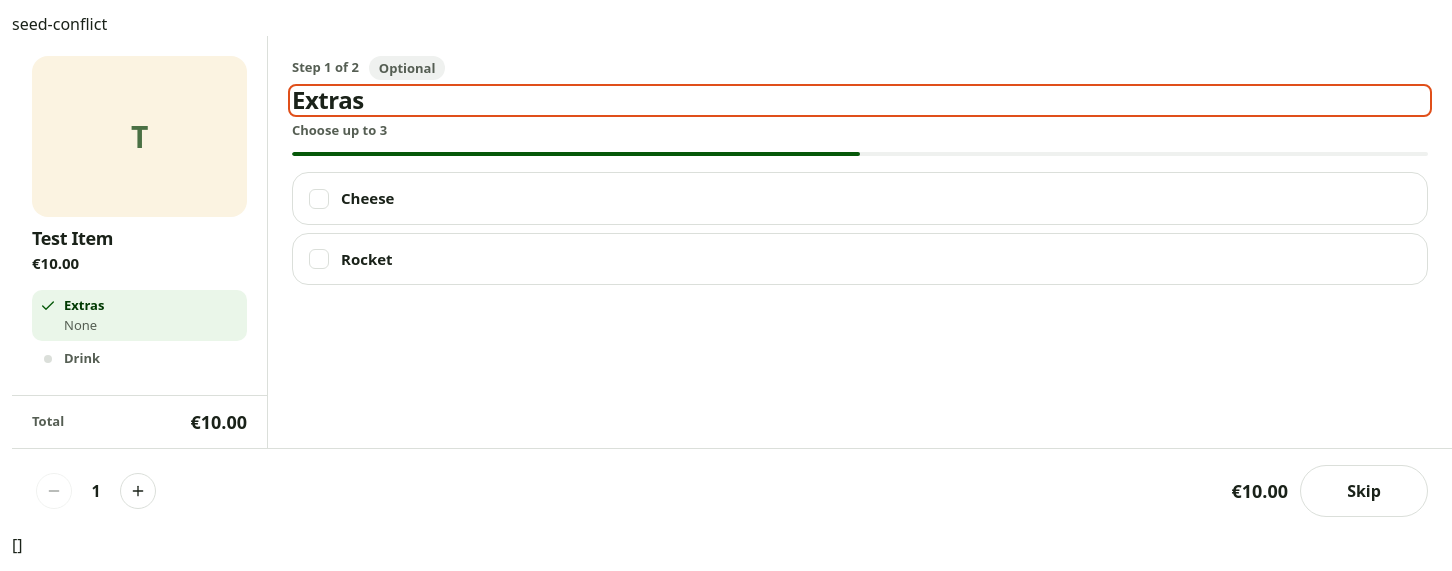
Test: optional (0–N) › offers Skip at zero and Next at one
Expected: the button "Skip" is shown, [1300,465,1428,517]
Click the checkbox labelled "Cheese".
click(368, 198)  # box [292,172,1428,225]
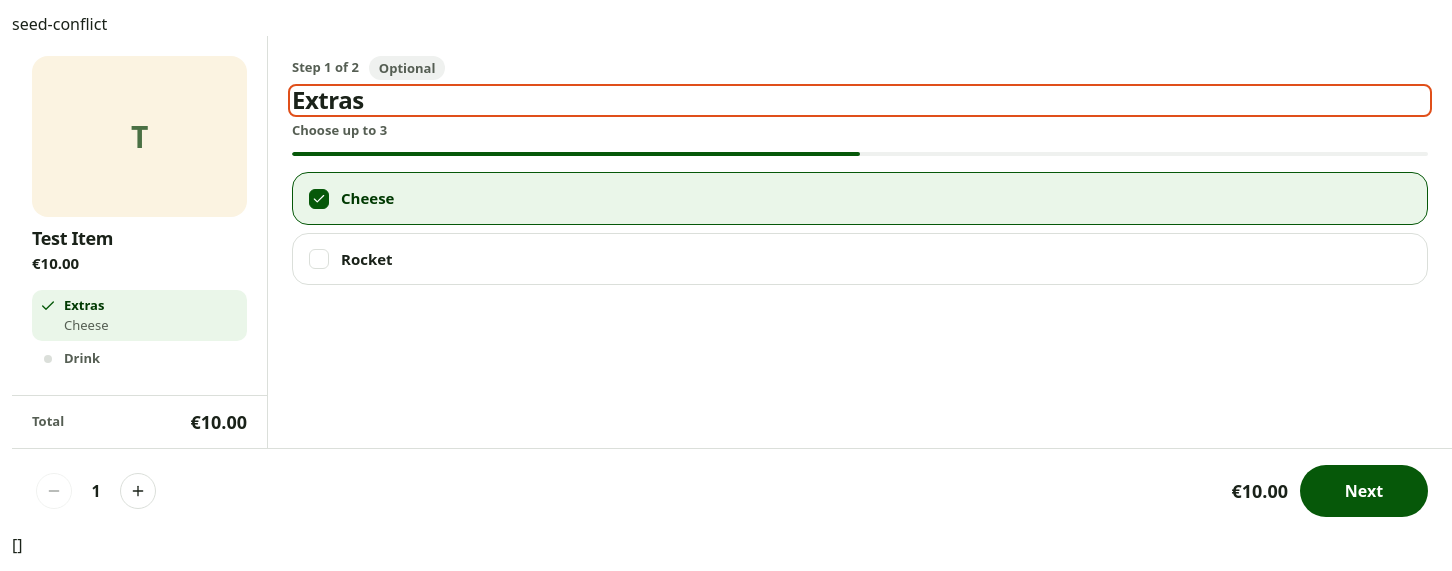
Expected: the button "Next" is enabled, [1300,465,1428,517]
Expected: the button "Skip" is gone
